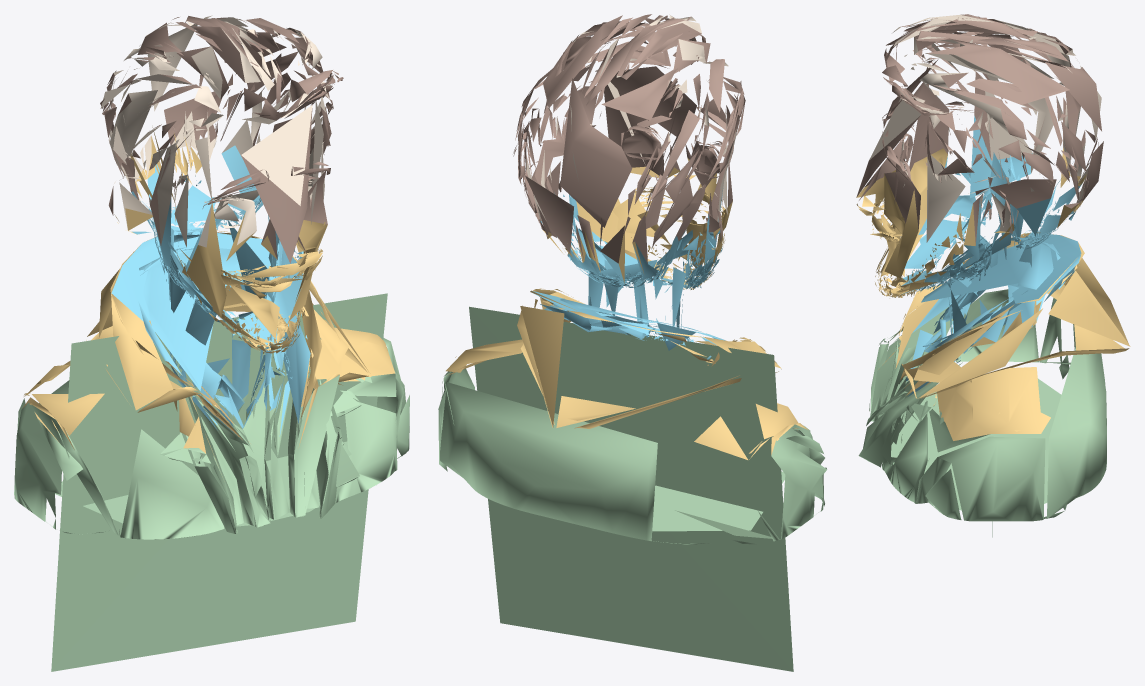
Rendered from statue_segmented.glb.
3 renders of one model, left to right at view 1: azimuth 30°, elevation 25°; view 2: azimuth 150°, elevation 25°; view 3: azimuth 270°, elevation 25°, orthographic. The views are drawn at different scales.
Visible parts, largest first — view 1: Part_03_Thân, Part_04_Tay, Part_02_Thân, Part_00_Đầu, Part_01_Tóc; view 2: Part_03_Thân, Part_01_Tóc, Part_04_Tay, Part_02_Thân, Part_00_Đầu; view 3: Part_03_Thân, Part_01_Tóc, Part_04_Tay, Part_02_Thân, Part_00_Đầu.
Part boxes in pixels (left/top/right/bottom): Part_03_Thân: left=14, top=293, right=409, bottom=671; Part_04_Tay: left=22, top=127, right=395, bottom=459; Part_02_Thân: left=111, top=145, right=312, bottom=438; Part_00_Đầu: left=100, top=15, right=332, bottom=247; Part_01_Tóc: left=100, top=16, right=343, bottom=263; Part_03_Thân: left=438, top=306, right=827, bottom=671; Part_01_Tóc: left=513, top=14, right=745, bottom=263; Part_04_Tay: left=446, top=158, right=808, bottom=459; Part_02_Thân: left=532, top=188, right=725, bottom=359; Part_00_Đầu: left=526, top=14, right=736, bottom=238; Part_03_Thân: left=858, top=289, right=1106, bottom=537; Part_01_Tóc: left=856, top=14, right=1103, bottom=244; Part_04_Tay: left=856, top=148, right=1130, bottom=440; Part_02_Thân: left=901, top=116, right=1082, bottom=396; Part_00_Đầu: left=869, top=14, right=1101, bottom=242.
Bounding box in the file's own units: 1.3 × 2.23 × 0.9405.
